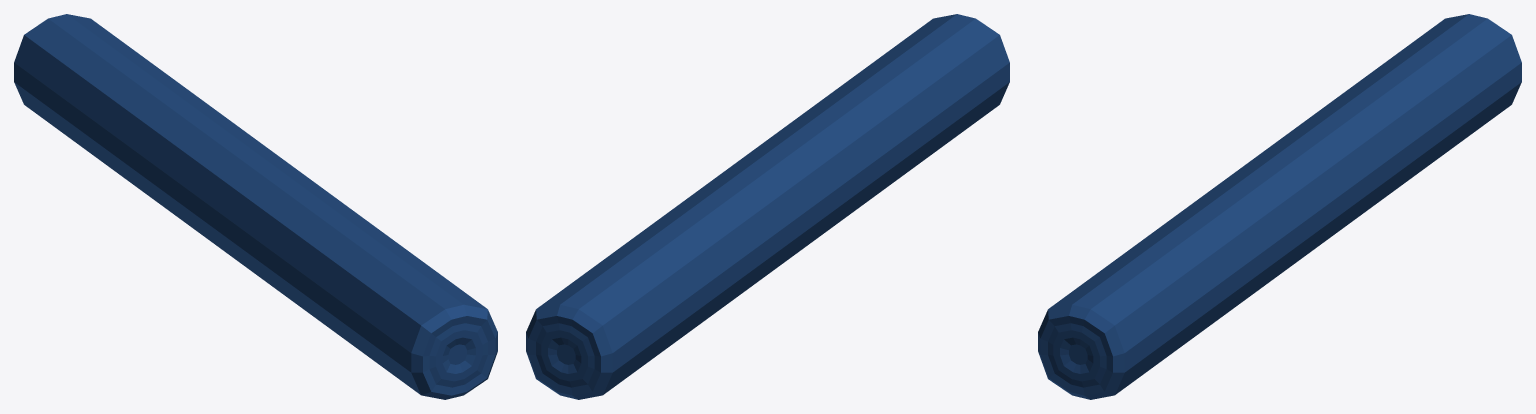
3 renders of one model, left to right at view 1: azimuth 30°, elevation 25°; view 2: azimuth 150°, elevation 25°; view 3: azimuth 330°, elevation 25°, orthographic.
Visible parts, largest first — view 1: G-10; view 2: G-10; view 3: G-10.
Boxes of the visible parts, <box> form: G-10: <box>14,14,497,399</box>; G-10: <box>526,14,1009,399</box>; G-10: <box>1038,14,1521,399</box>.
Size of the model in its own units: 15.61 by 15.61 by 127.
